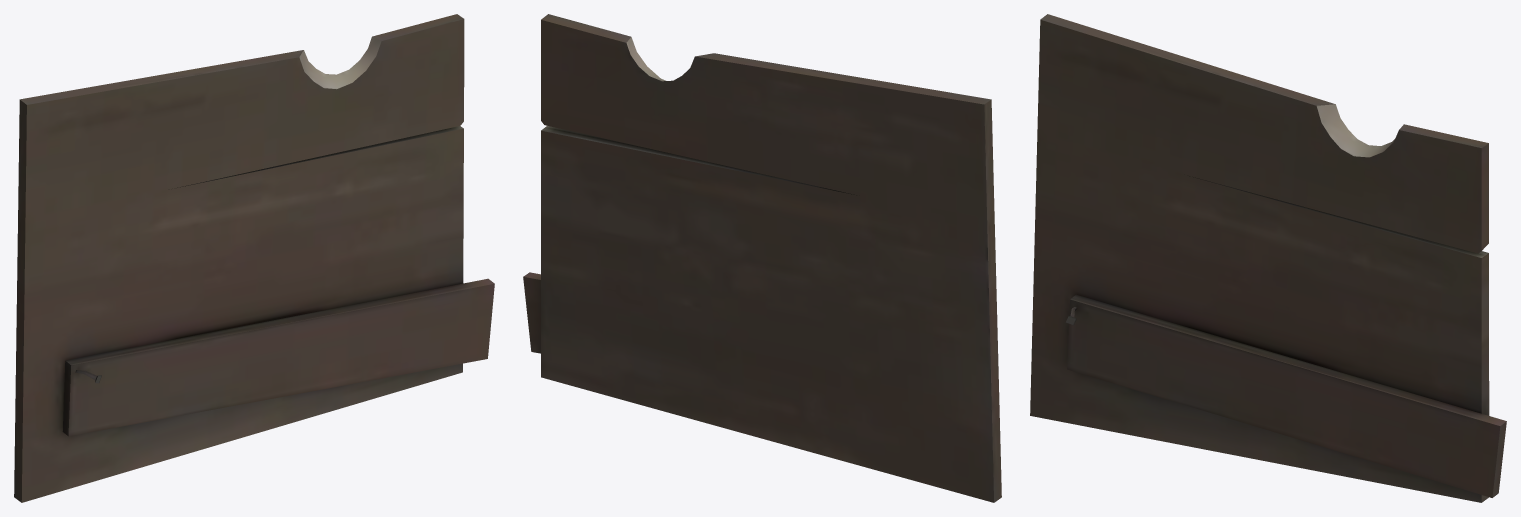
The picture shows the model from 3 angles, left to right: view 1: azimuth 30°, elevation 25°; view 2: azimuth 150°, elevation 25°; view 3: azimuth 330°, elevation 25°; orthographic projection.
Visible parts, largest first — view 1: body0_model0_lod0_mesh0; view 2: body0_model0_lod0_mesh0; view 3: body0_model0_lod0_mesh0.
Boxes of the visible parts, bbox=[...] form: body0_model0_lod0_mesh0: bbox=[14, 14, 494, 502]; body0_model0_lod0_mesh0: bbox=[523, 14, 1001, 502]; body0_model0_lod0_mesh0: bbox=[1030, 14, 1506, 502].
Size of the model in its own units: 104 by 83.2 by 11.7.
Materials: 1 (1 with a texture image).
